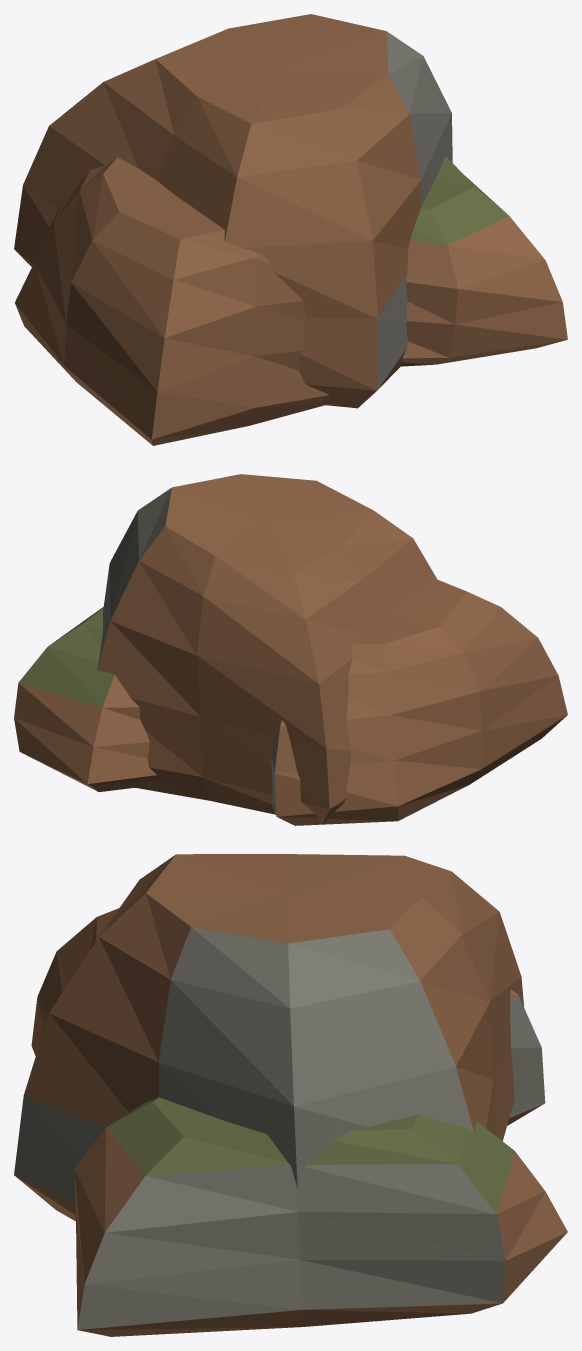
The model's file is rock_boulder_large_a.glb.
3 renders of one model, top to bottom at view 1: azimuth 30°, elevation 25°; view 2: azimuth 150°, elevation 25°; view 3: azimuth 270°, elevation 25°, orthographic. The views are drawn at different scales.
Parts seen in each view (by area): view 1: rock_boulder_large_a_LOD0_stone; view 2: rock_boulder_large_a_LOD0_stone; view 3: rock_boulder_large_a_LOD0_stone.
Part boxes in pixels (x1,y1,x2,y2): rock_boulder_large_a_LOD0_stone: (14,14,567,445); rock_boulder_large_a_LOD0_stone: (14,474,567,825); rock_boulder_large_a_LOD0_stone: (14,854,567,1336).
Size of the model in its own units: 2.07 by 1.29 by 1.86.
